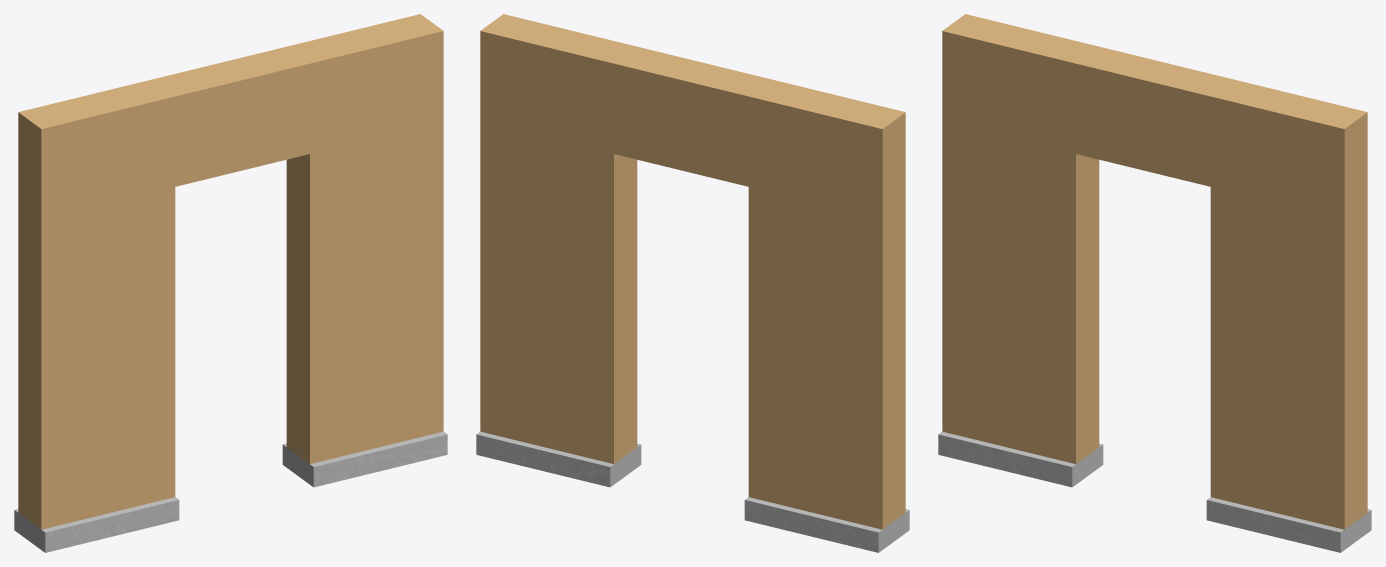
Rendered from Wall with door.fbx.
The picture shows the model from 3 angles, left to right: view 1: azimuth 30°, elevation 25°; view 2: azimuth 150°, elevation 25°; view 3: azimuth 330°, elevation 25°; orthographic projection.
Parts seen in each view (by area): view 1: Wall with Door; view 2: Wall with Door; view 3: Wall with Door.
Part boxes in pixels (x1,y1,x2,y2): Wall with Door: (14,14,447,552); Wall with Door: (476,14,909,552); Wall with Door: (938,14,1371,552).
Size of the model in its own units: 6 by 6 by 0.8.
